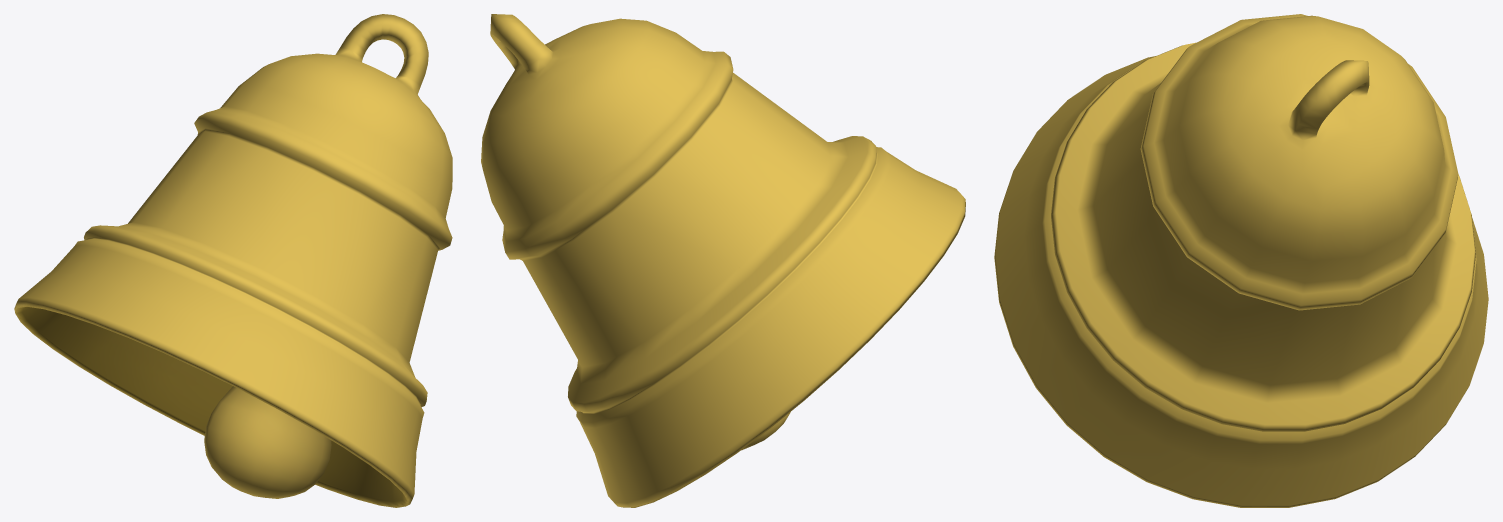
Rendered from bell_final.glb.
3 views of the same model, side by side, from view 1: azimuth 30°, elevation 25°; view 2: azimuth 150°, elevation 25°; view 3: azimuth 270°, elevation 25° (orthographic). The views are drawn at different scales.
Parts seen in each view (by area): view 1: bell; view 2: bell; view 3: bell.
Part boxes in pixels (x1,y1,x2,y2): bell: (14,14,452,507); bell: (481,14,965,507); bell: (994,14,1488,507).
Bounding box in the file's own units: 0.9463 × 0.9801 × 0.8953.
Materials: 1 (1 with a texture image).
